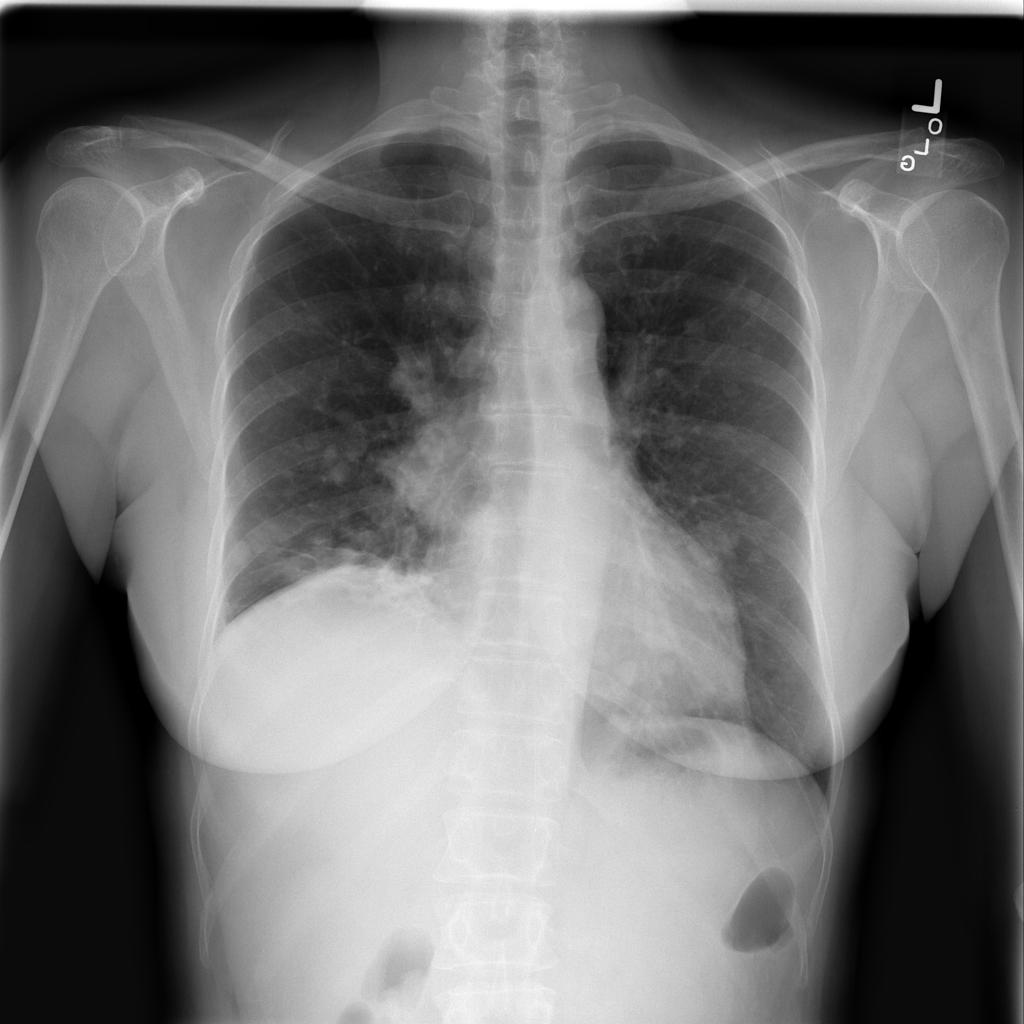nodule: (678, 505, 749, 577), (303, 424, 368, 498), (634, 615, 687, 665), (606, 645, 655, 698), (724, 270, 775, 320), (735, 531, 784, 581), (215, 530, 266, 578), (670, 306, 717, 357), (718, 379, 752, 417)
